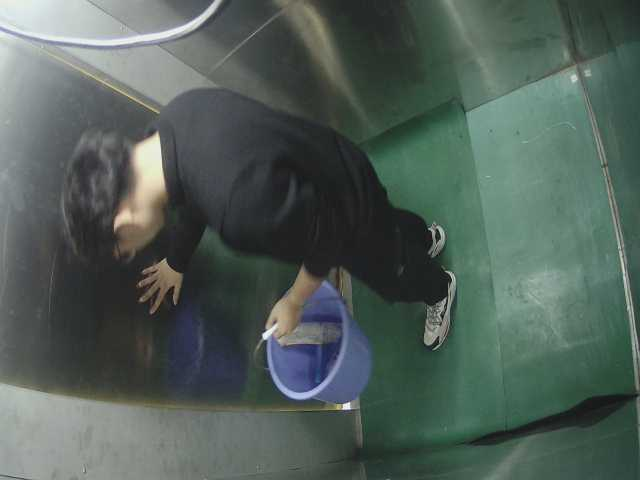bucket: (254, 277, 381, 410)
person: (45, 113, 472, 349)
